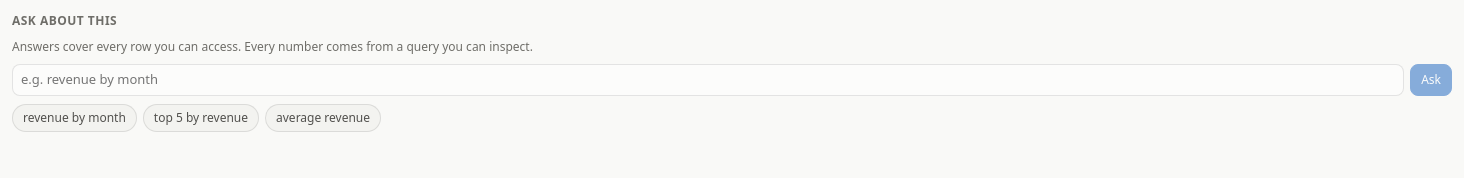
Test: AskInContext › shows a refusal instead of a made-up answer
Click the button "revenue by month". click: [74, 118]
box: [12,104,137,132]
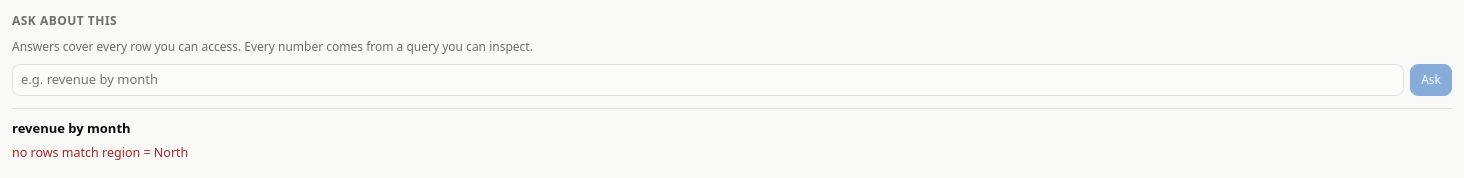
Check: the text "no rows match region = North" is shown, box [12,144,188,161]
